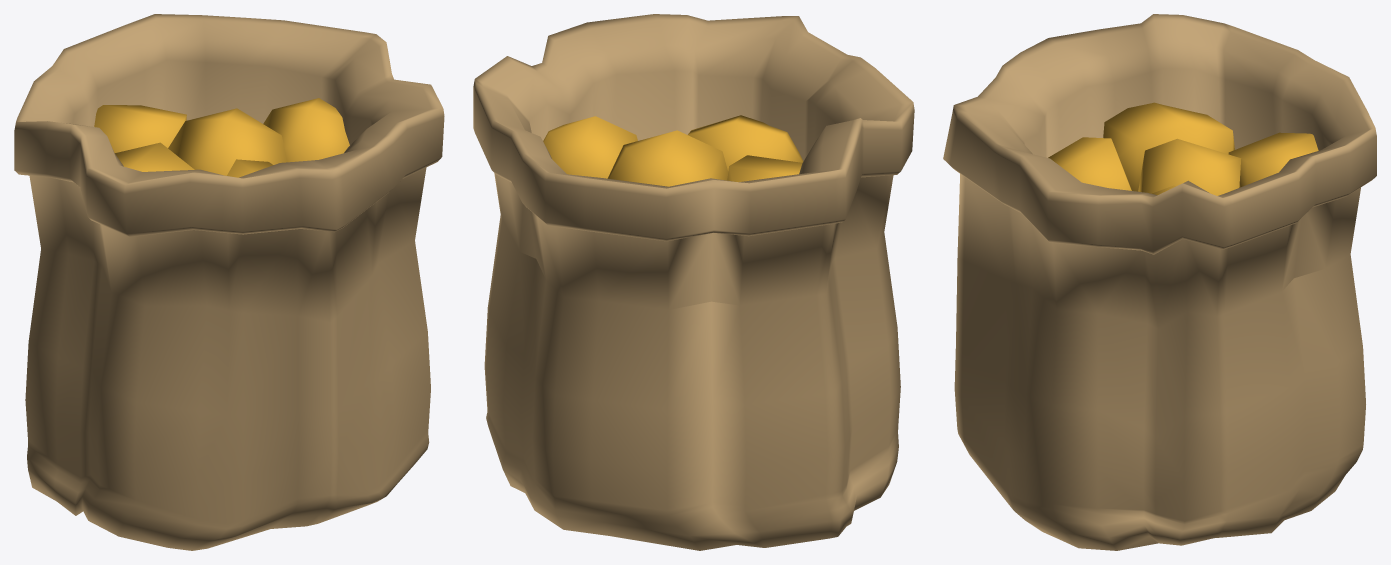
File: Bag of Potatoesfbx.fbx
3 renders of one model, left to right at view 1: azimuth 30°, elevation 25°; view 2: azimuth 150°, elevation 25°; view 3: azimuth 270°, elevation 25°, orthographic. The views are drawn at different scales.
Parts seen in each view (by area): view 1: Cylinder, Sphere.004; view 2: Cylinder, Sphere.004; view 3: Cylinder, Sphere.004.
Part boxes in pixels (x1,y1,x2,y2): Cylinder: (14, 14, 444, 550); Sphere.004: (94, 98, 349, 177); Cylinder: (473, 14, 914, 550); Sphere.004: (543, 115, 803, 186); Cylinder: (943, 14, 1376, 550); Sphere.004: (1048, 102, 1318, 195).
Bounding box in the file's own units: 153 × 162 × 159.
